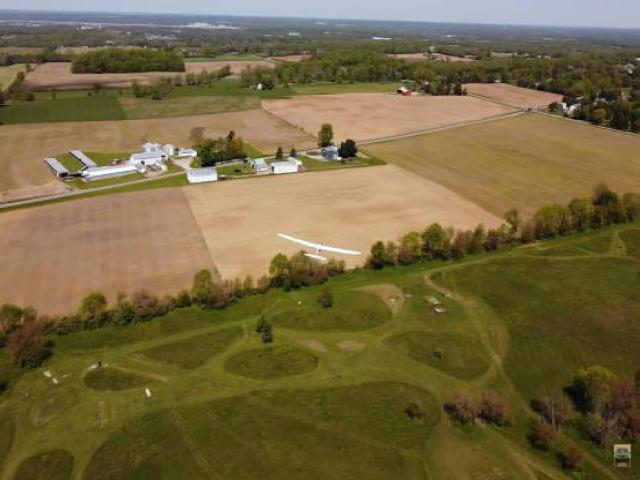uav: (274, 225, 366, 278)
